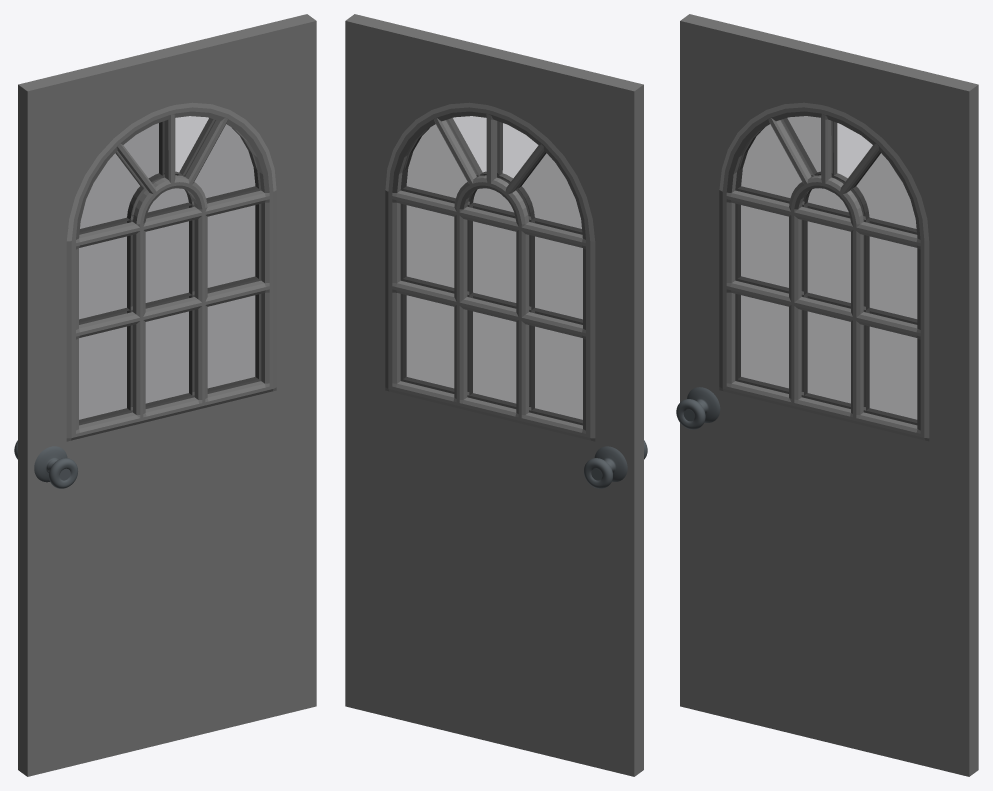
File: DoorsV2.glb
3 views of the same model, side by side, from view 1: azimuth 30°, elevation 25°; view 2: azimuth 150°, elevation 25°; view 3: azimuth 330°, elevation 25° (orthographic).
Visible parts, largest first — view 1: Plane, DoorKnob2; view 2: Plane, DoorKnob2.001; view 3: Plane, DoorKnob2.
Part boxes in pixels (x1,y1,x2,y2): Plane: [18, 14, 316, 776]; DoorKnob2: [34, 446, 77, 488]; Plane: [345, 14, 643, 776]; DoorKnob2.001: [584, 446, 627, 488]; Plane: [680, 14, 978, 776]; DoorKnob2: [676, 387, 720, 429].
Bounding box in the file's own units: 0.94 × 2.13 × 0.2231.
Materials: 3 (1 with a texture image).
